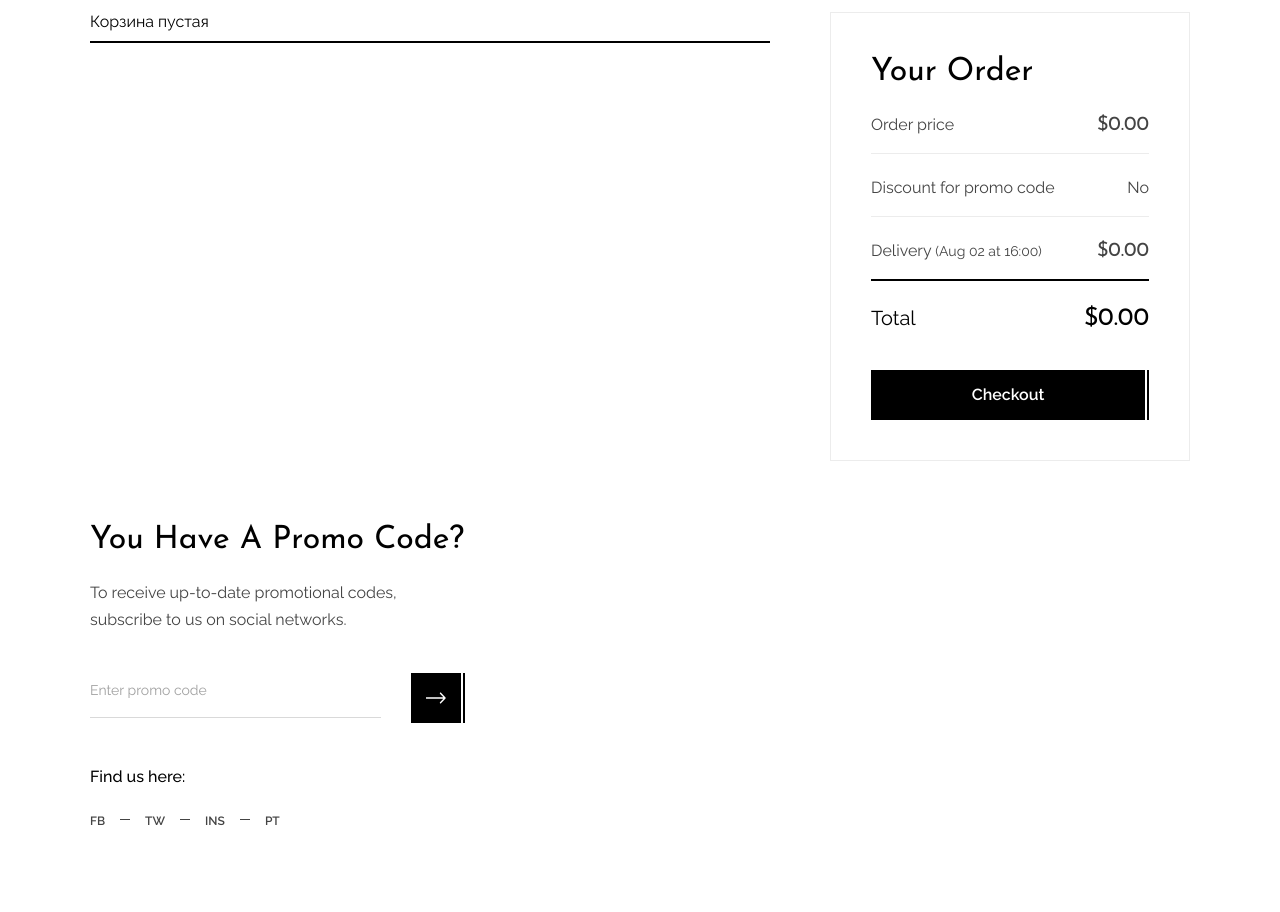
Test case: CartShowcase › keeps delivery and total at 0 for an empty cart, even after valid promo application
Check: the text "Корзина пустая" is shown, box [90,12,770,43]
Check: the text "$0.00" is shown 3 times, box [1097,111,1149,138]; [1097,237,1149,264]; [1084,301,1149,335]
Type "ilovereact" into the field with placeholder "Enter promo code" at (236, 698), box [90,678,381,718]
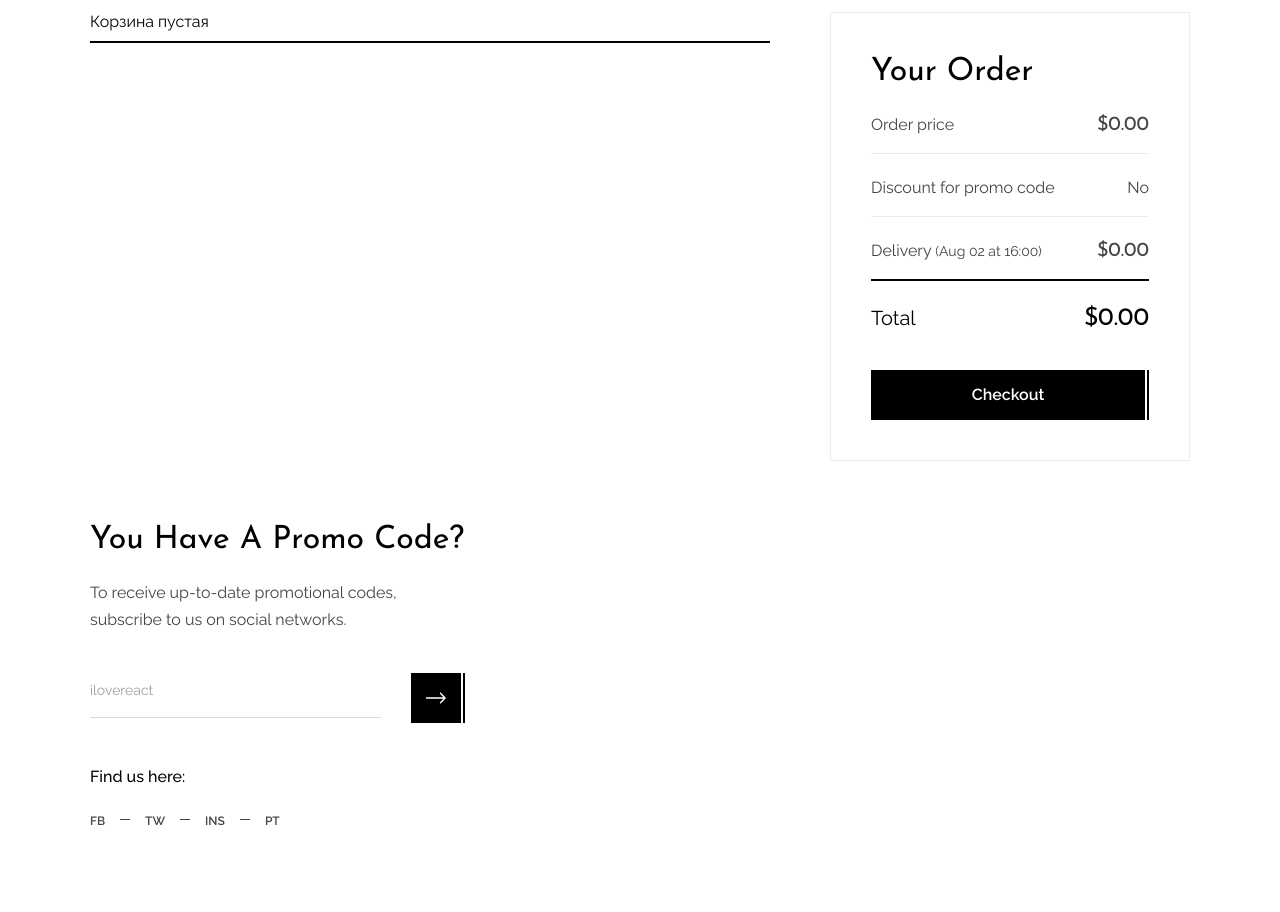
Click the 2nd button at (436, 698), box [411,673,461,723]
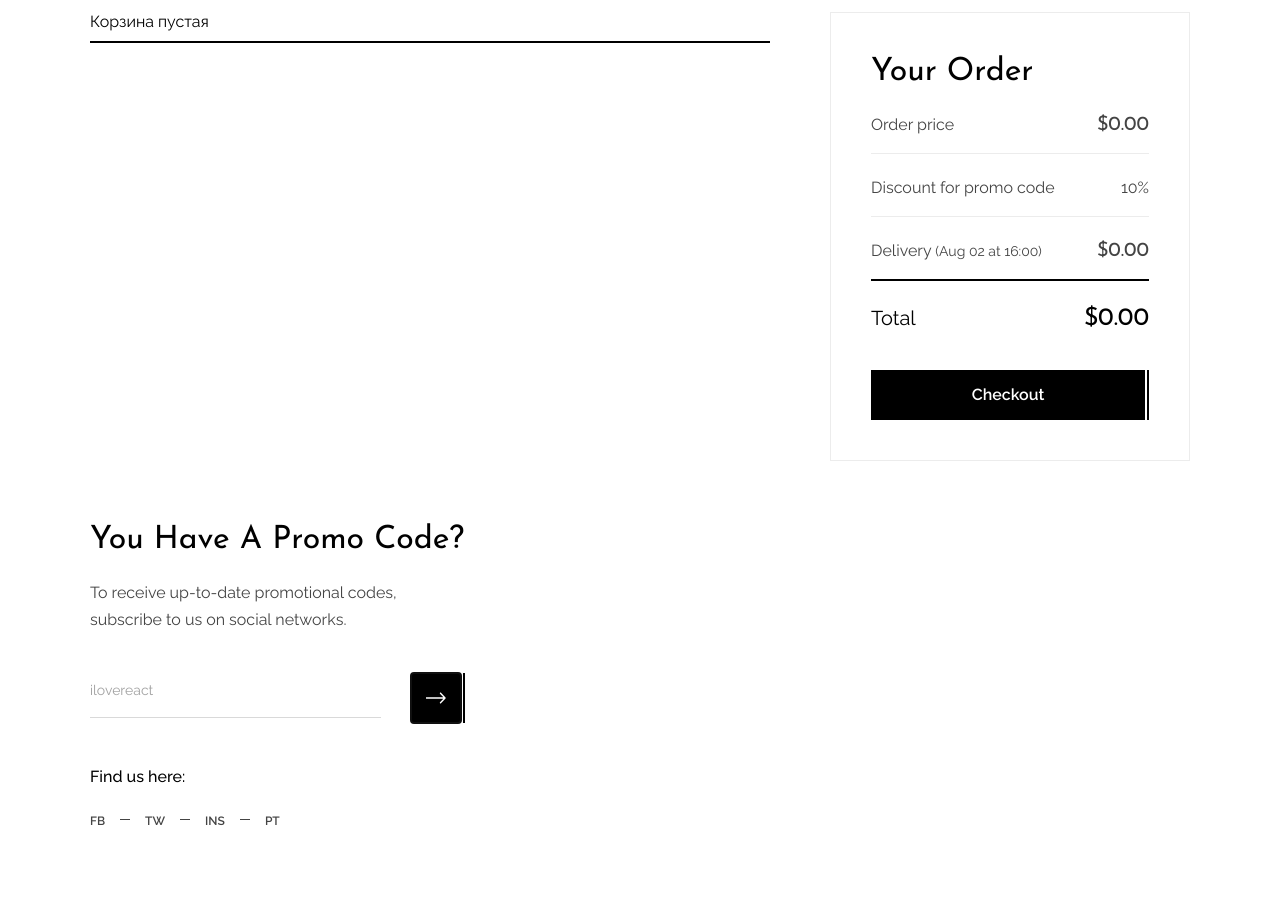
Check: the text "$0.00" is shown 3 times, box [1097,111,1149,138]; [1097,237,1149,264]; [1084,301,1149,335]
Check: the text "10%" is shown, box [1121,174,1149,201]
